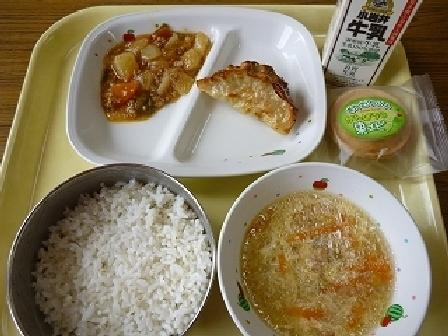Milk: (309, 6, 426, 81)
Rice: (11, 173, 211, 334)
Soups: (223, 168, 428, 333)
pastry: (310, 85, 440, 171), (204, 57, 310, 138)
vegetable based cooked food: (96, 23, 200, 117)
